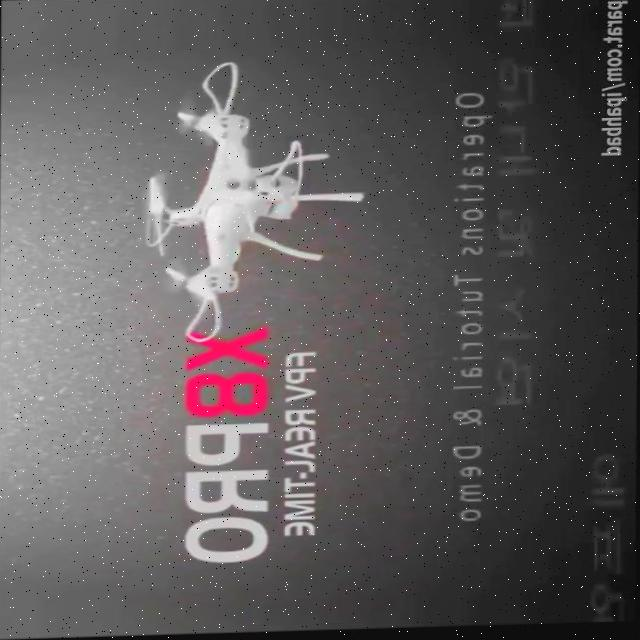drone: (144, 60, 367, 346)
